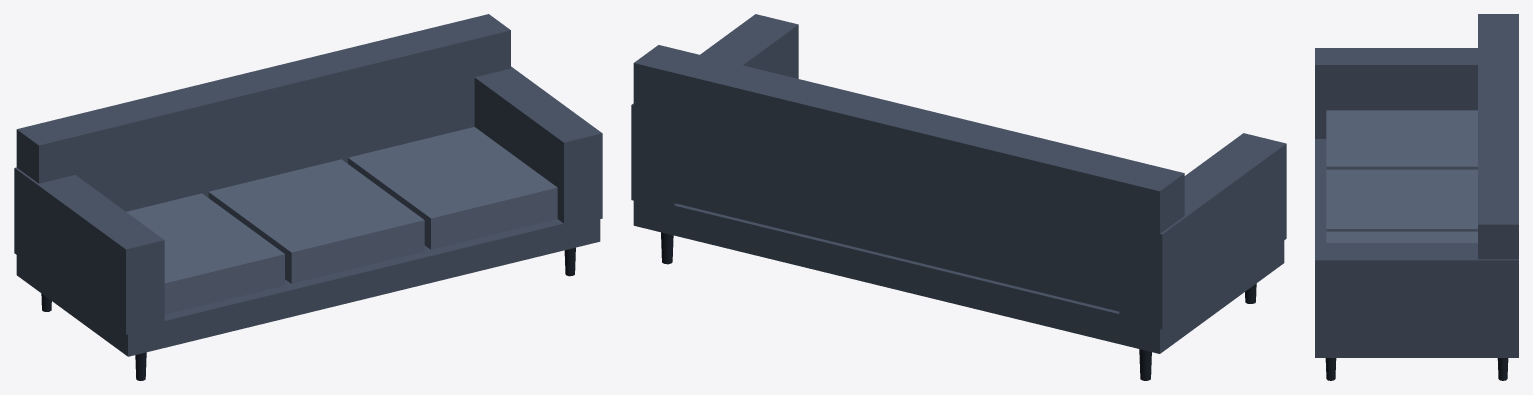
The model's file is sofa_modern_3seat.glb.
3 views of the same model, side by side, from view 1: azimuth 30°, elevation 25°; view 2: azimuth 150°, elevation 25°; view 3: azimuth 270°, elevation 25° (orthographic). The views are drawn at different scales.
Visible parts, largest first — view 1: sofa_modern_3seat; view 2: sofa_modern_3seat; view 3: sofa_modern_3seat.
Part boxes in pixels (<box>): sofa_modern_3seat: <box>14,14,602,380</box>; sofa_modern_3seat: <box>631,14,1286,380</box>; sofa_modern_3seat: <box>1315,14,1518,380</box>.
Size of the model in its own units: 2.22 by 0.8 by 0.9.
